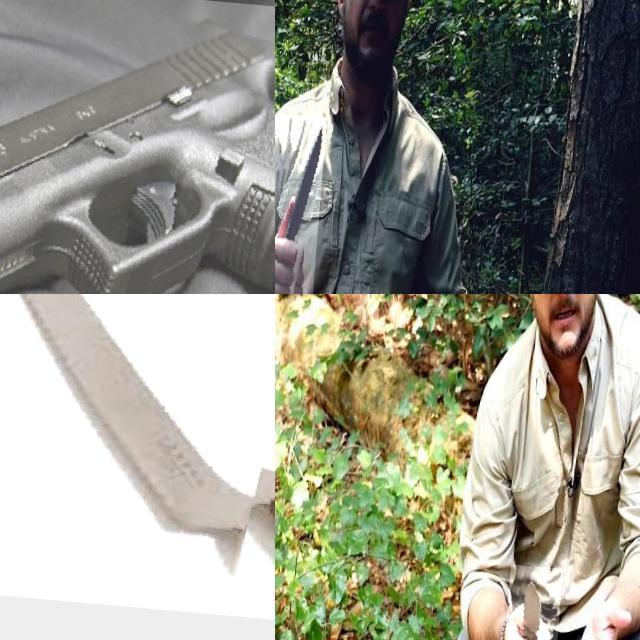-: (0, 294, 275, 612), (275, 108, 331, 294), (509, 558, 569, 640)
gun-knife-thesis - v11 Yolov5 augmented: (0, 0, 275, 294)
